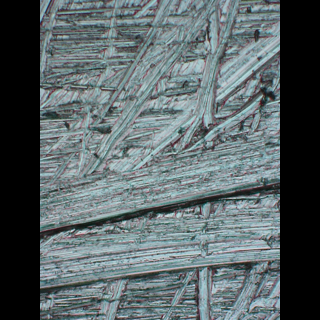d: (41, 0, 279, 319)
